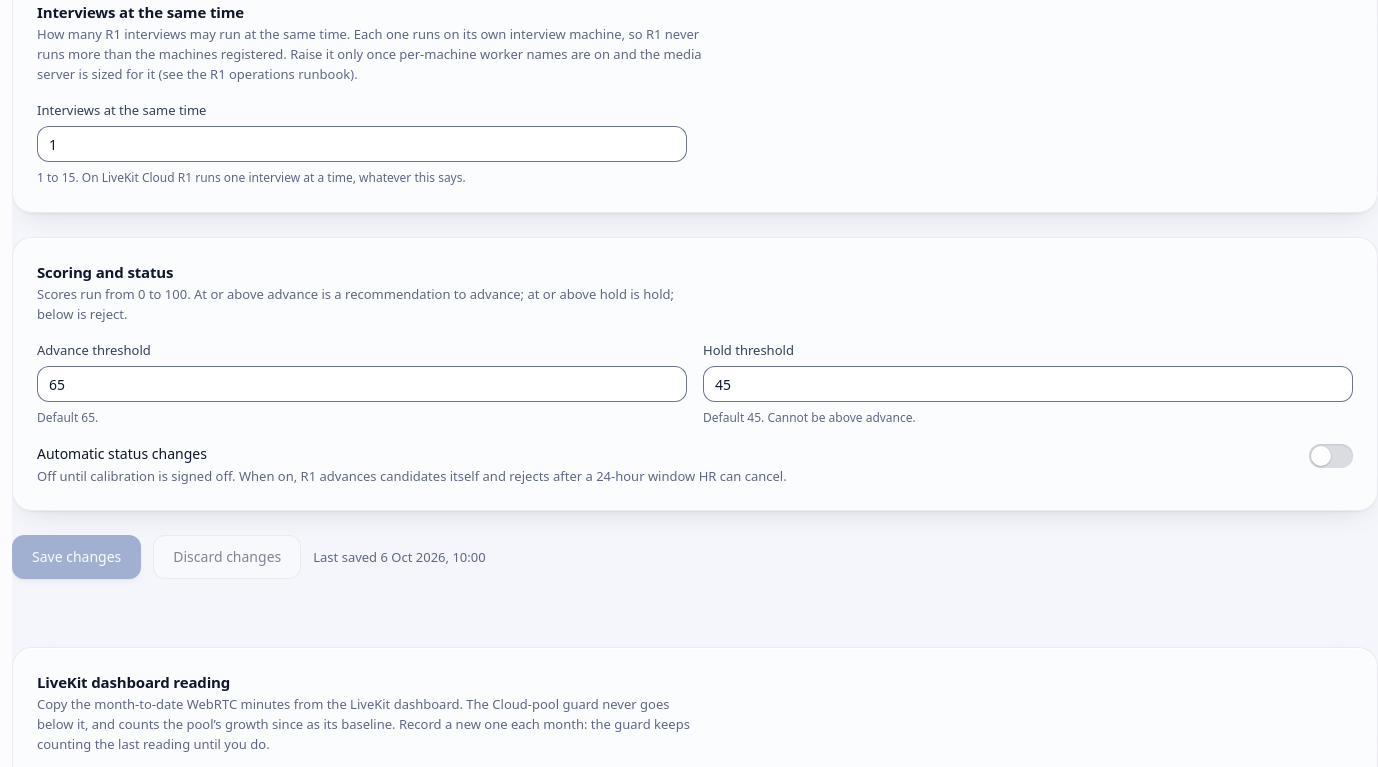
Test: validation › refuses a hold threshold above the advance threshold, naming the hold field
The image size is (1378, 767).
(page scrolled)
Replace the text in the field labelled "Advance threshold" with "40": [362, 384] box [37, 366, 687, 402]
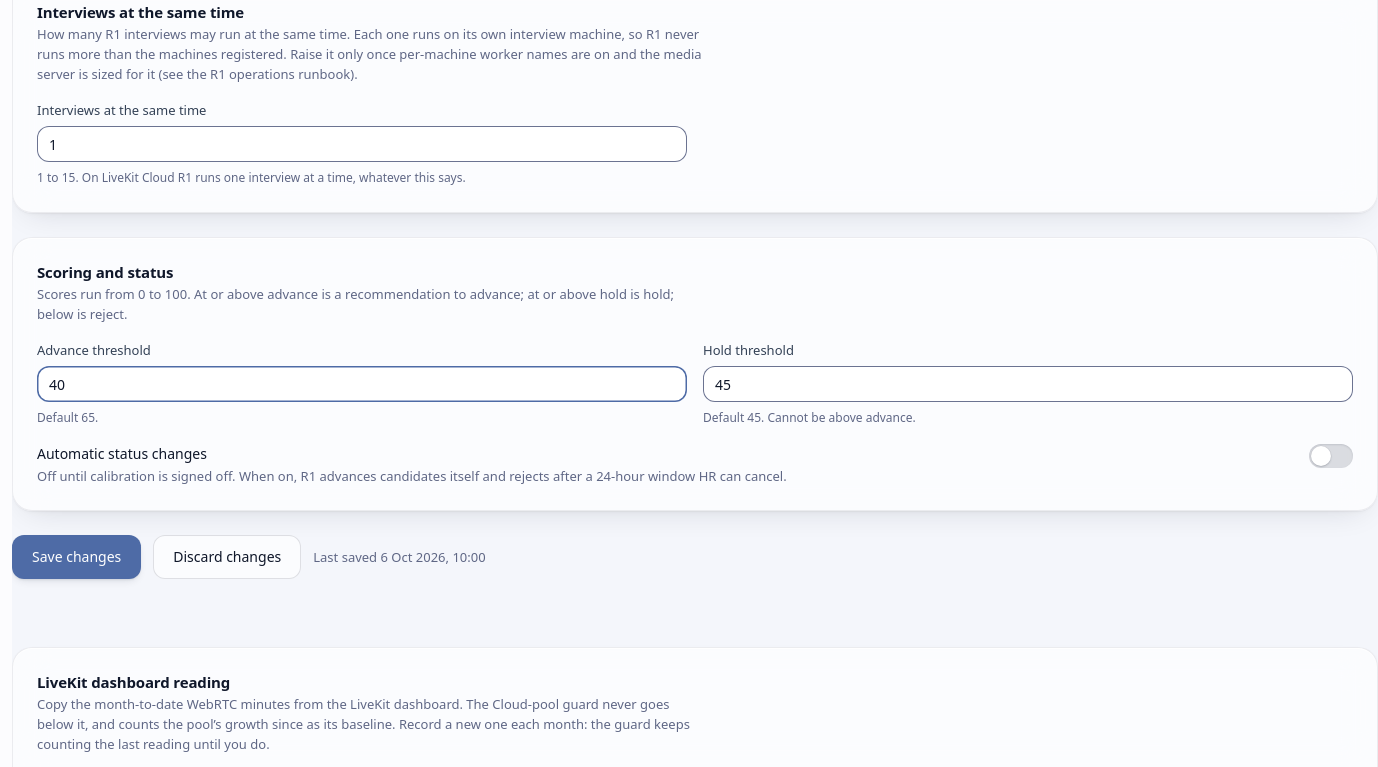
Click the button "Save changes": [77, 557] box [12, 535, 141, 579]
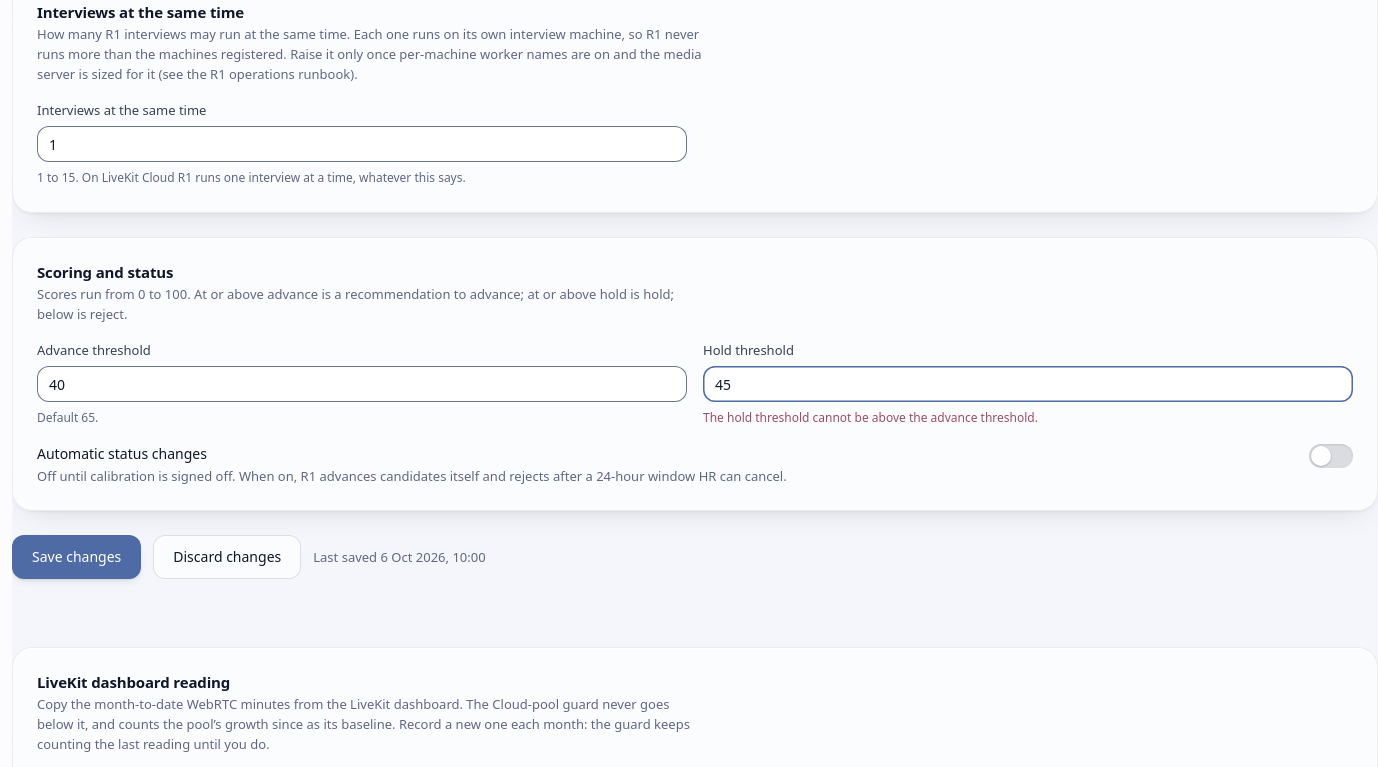
Now the text "The hold threshold cannot be above the advance threshold." is shown, box [703, 409, 1038, 426]
